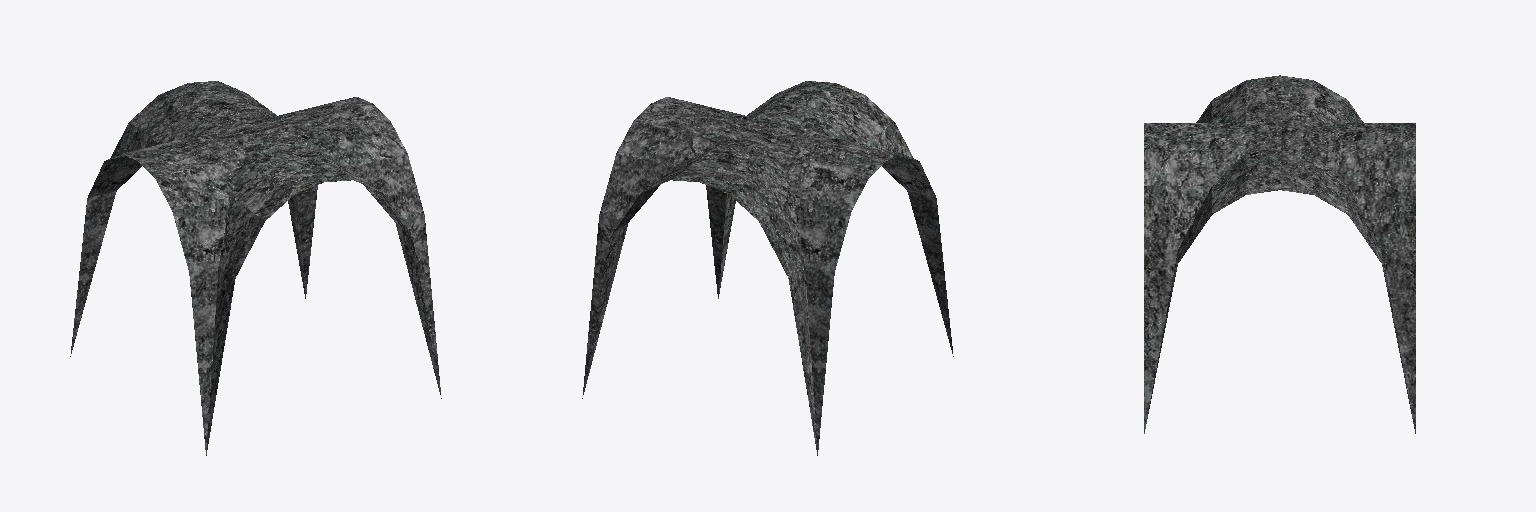
3 views of the same model, side by side, from view 1: azimuth 30°, elevation 25°; view 2: azimuth 150°, elevation 25°; view 3: azimuth 270°, elevation 25° (orthographic).
Parts seen in each view (by area): view 1: Grid_Grid.006_Grid_Grid.029; view 2: Grid_Grid.006_Grid_Grid.029; view 3: Grid_Grid.006_Grid_Grid.029.
Boxes of the visible parts, x1=… form: Grid_Grid.006_Grid_Grid.029: x1=70, y1=81, x2=441, y2=455; Grid_Grid.006_Grid_Grid.029: x1=582, y1=81, x2=953, y2=455; Grid_Grid.006_Grid_Grid.029: x1=1144, y1=75, x2=1415, y2=433.
Size of the model in its own units: 1 by 1 by 1.
1 materials, 1 textured.